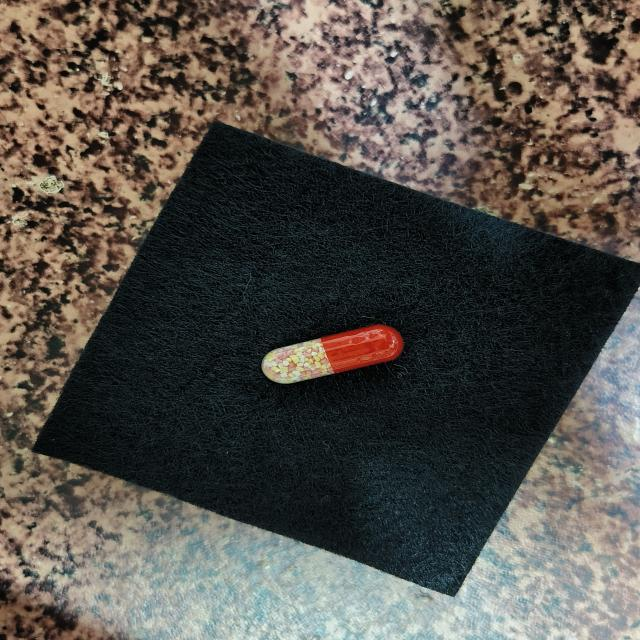Intact Capsule: (261, 324, 403, 384)
